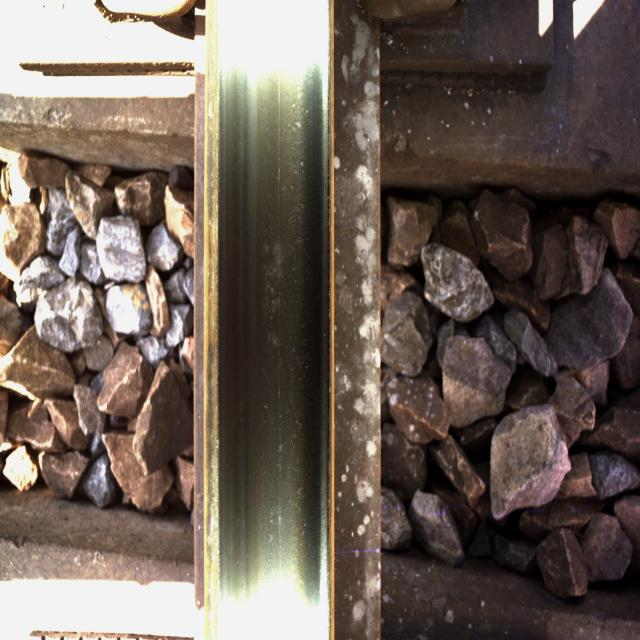break: (223, 19, 315, 605)
